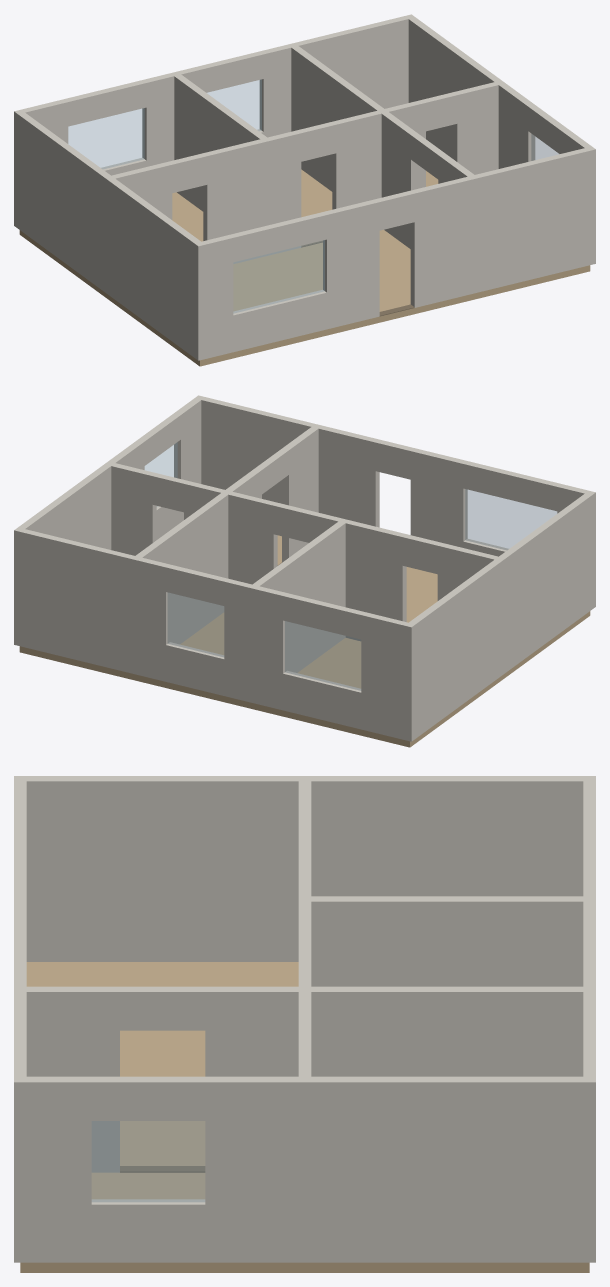
Rendered from sample.glb.
The picture shows the model from 3 angles, top to bottom: view 1: azimuth 30°, elevation 25°; view 2: azimuth 150°, elevation 25°; view 3: azimuth 270°, elevation 25°; orthographic projection. The views are drawn at different scales.
Parts seen in each view (by area): view 1: wall-south, wall-west, wall-rooms, wall-north, wall-east, floor-living, wall-bedrooms, wall-bathroom, wall-kitchen, window-living-window, window-bedroom-a-window, window-bedroom-b-window (+3 smaller); view 2: wall-north, wall-west, wall-south, wall-rooms, wall-east, wall-bedrooms, wall-bathroom, wall-kitchen, window-bedroom-a-window, window-living-window, floor-bedroom-a, window-bedroom-b-window (+4 smaller); view 3: wall-east, wall-west, wall-bathroom, wall-bedrooms, wall-kitchen, floor-living, window-kitchen-window, floor-kitchen, wall-south, wall-rooms, wall-north, floor-bathroom.
Boxes of the visible parts, x1=… form: wall-south: x1=194, y1=146, x2=595, y2=359; wall-west: x1=14, y1=109, x2=205, y2=360; wall-rooms: x1=104, y1=82, x2=498, y2=293; wall-north: x1=14, y1=15, x2=412, y2=228; wall-east: x1=405, y1=14, x2=595, y2=216; floor-living: x1=109, y1=229, x2=473, y2=366; wall-bedrooms: x1=174, y1=71, x2=271, y2=256; wall-bathroom: x1=288, y1=44, x2=387, y2=191; wall-kitchen: x1=381, y1=110, x2=478, y2=293; window-living-window: x1=233, y1=240, x2=324, y2=313; window-bedroom-a-window: x1=68, y1=108, x2=144, y2=168; window-bedroom-b-window: x1=207, y1=79, x2=261, y2=130; wall-north: x1=14, y1=527, x2=415, y2=741; wall-west: x1=404, y1=490, x2=595, y2=741; wall-south: x1=195, y1=395, x2=595, y2=609; wall-rooms: x1=104, y1=461, x2=505, y2=674; wall-east: x1=14, y1=395, x2=204, y2=646; wall-bedrooms: x1=248, y1=520, x2=347, y2=703; wall-bathroom: x1=131, y1=490, x2=231, y2=673; wall-kitchen: x1=223, y1=424, x2=321, y2=562; window-bedroom-a-window: x1=285, y1=621, x2=360, y2=690; window-living-window: x1=465, y1=489, x2=556, y2=549; floor-bedroom-a: x1=254, y1=638, x2=500, y2=747; window-bedroom-b-window: x1=168, y1=593, x2=223, y2=656; wall-east: x1=14, y1=1076, x2=595, y2=1262; wall-west: x1=14, y1=776, x2=595, y2=961; wall-bathroom: x1=298, y1=986, x2=595, y2=1076; wall-bedrooms: x1=298, y1=896, x2=595, y2=986; wall-kitchen: x1=14, y1=986, x2=311, y2=1172; floor-living: x1=26, y1=962, x2=298, y2=1165; window-kitchen-window: x1=92, y1=1121, x2=204, y2=1201; floor-kitchen: x1=20, y1=1172, x2=304, y2=1272; wall-south: x1=14, y1=776, x2=26, y2=1262; wall-rooms: x1=298, y1=776, x2=311, y2=1262; wall-north: x1=583, y1=776, x2=595, y2=1262; floor-bathroom: x1=305, y1=1262, x2=589, y2=1272.
Size of the model in its own units: 10.18 by 3 by 8.18.
